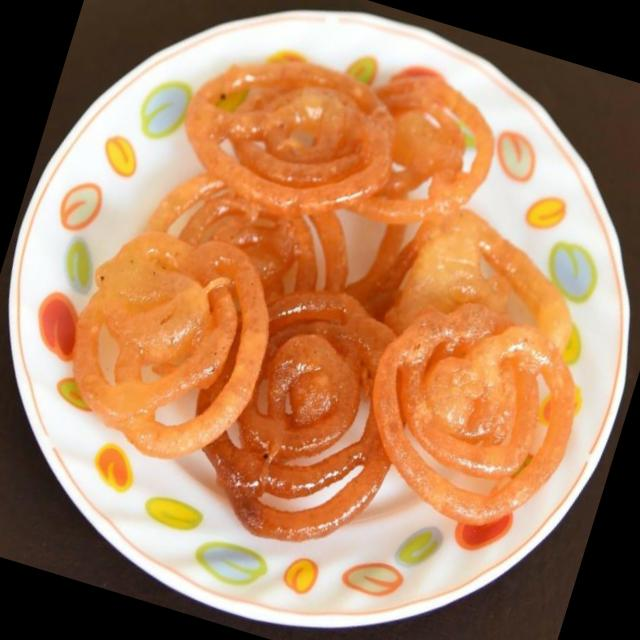jalebi: (22, 0, 640, 603)
